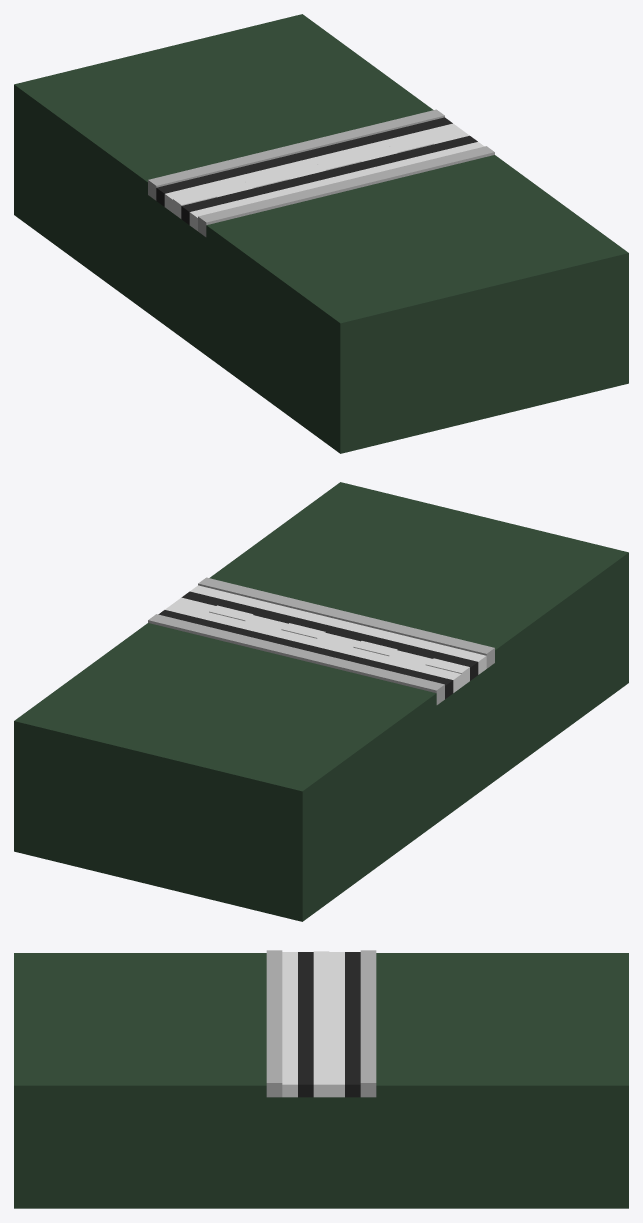
File: roadGrass.fbx
3 views of the same model, one above another, from view 1: azimuth 30°, elevation 25°; view 2: azimuth 150°, elevation 25°; view 3: azimuth 270°, elevation 25° (orthographic). The views are drawn at different scales.
Parts seen in each view (by area): view 1: Cube, Cube.006, Cube.005, Cube.002, Cube.003, Cube.001, Cube.004, Cube.008, Cube.007; view 2: Cube, Cube.005, Cube.006, Cube.001, Cube.004, Cube.003, Cube.002, Cube.008, Cube.007; view 3: Cube, Cube.005, Cube.006, Cube.001, Cube.002, Cube.003, Cube.004, Cube.007, Cube.008.
Boxes of the visible parts, box(x1,y1,x2,y2) form: Cube: box(14, 14, 628, 453); Cube.006: box(198, 146, 494, 236); Cube.005: box(148, 109, 444, 200); Cube.002: box(156, 117, 452, 206); Cube.003: box(181, 135, 477, 224); Cube.001: box(164, 123, 461, 212); Cube.004: box(189, 142, 484, 230); Cube.008: box(173, 137, 433, 217); Cube.007: box(173, 129, 469, 218); Cube: box(14, 482, 628, 921); Cube.005: box(148, 614, 444, 704); Cube.006: box(198, 577, 494, 668); Cube.001: box(165, 603, 461, 692); Cube.004: box(190, 585, 486, 674); Cube.003: box(181, 591, 478, 680); Cube.002: box(158, 610, 453, 698); Cube.008: box(209, 605, 469, 685); Cube.007: box(173, 597, 469, 686); Cube: box(14, 953, 628, 1208); Cube.005: box(360, 950, 376, 1097); Cube.006: box(266, 950, 282, 1097); Cube.001: box(329, 952, 344, 1097); Cube.002: box(345, 952, 360, 1097); Cube.003: box(298, 952, 313, 1097); Cube.004: box(282, 952, 297, 1097); Cube.007: box(313, 968, 329, 1097); Cube.008: box(313, 951, 329, 1067).
Size of the model in its own units: 4000 by 1765 by 7840.
